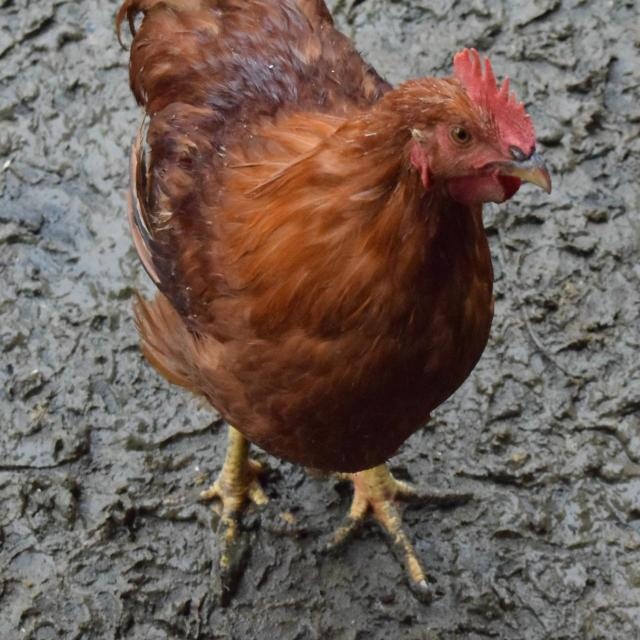cook: (113, 0, 551, 589)
